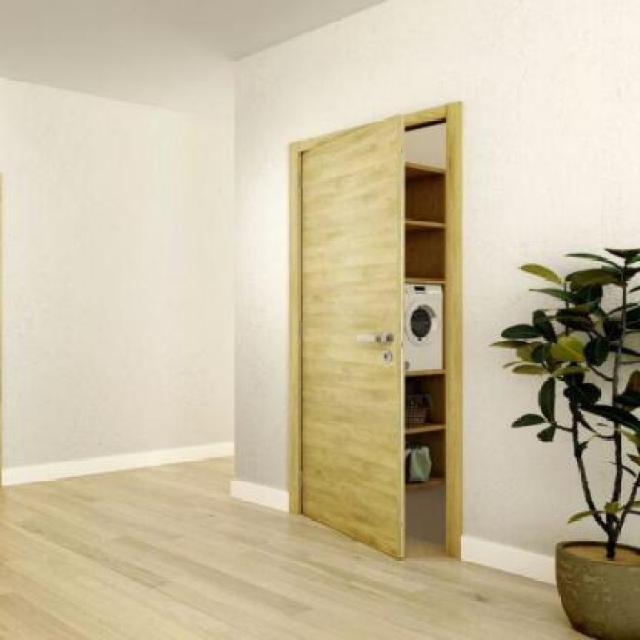door_handle: (344, 325, 394, 353)
